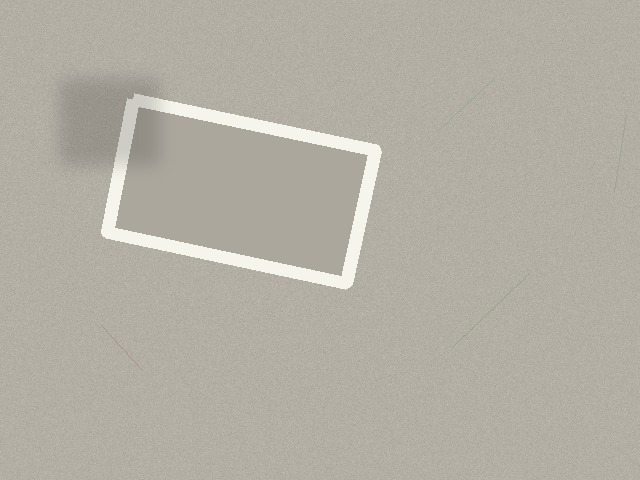parking_area: (107, 99, 375, 283)
